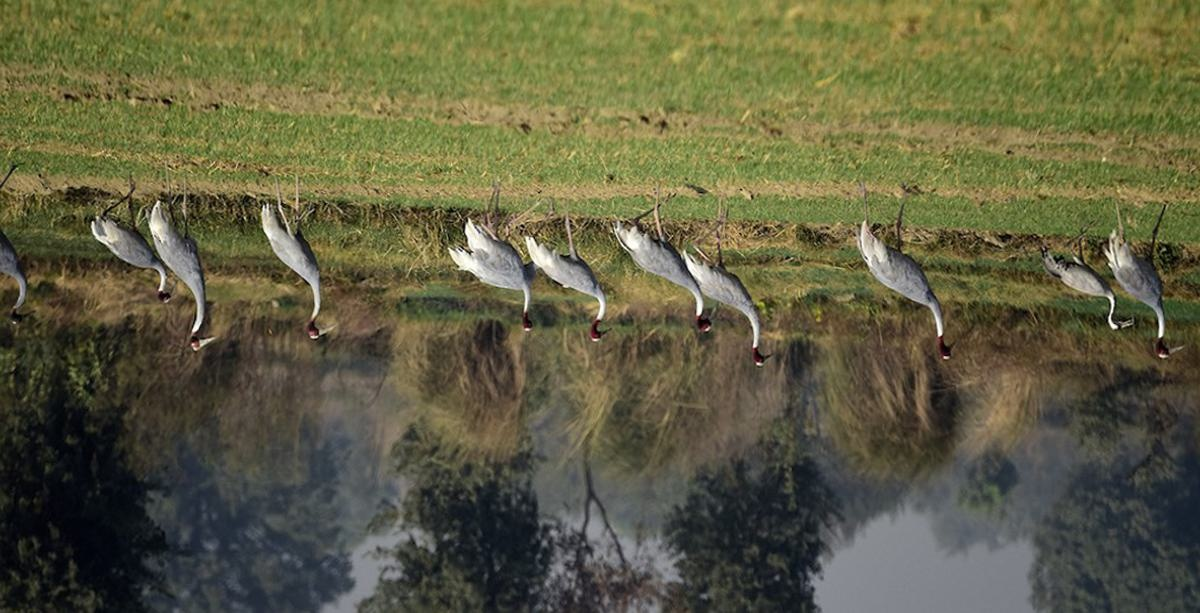crane: (849, 190, 975, 371), (257, 180, 364, 362), (681, 212, 796, 377), (136, 180, 236, 359), (1101, 209, 1195, 368), (618, 192, 711, 347), (526, 226, 628, 349), (451, 214, 549, 338), (87, 197, 181, 320), (1040, 246, 1140, 353), (1, 219, 49, 341)
